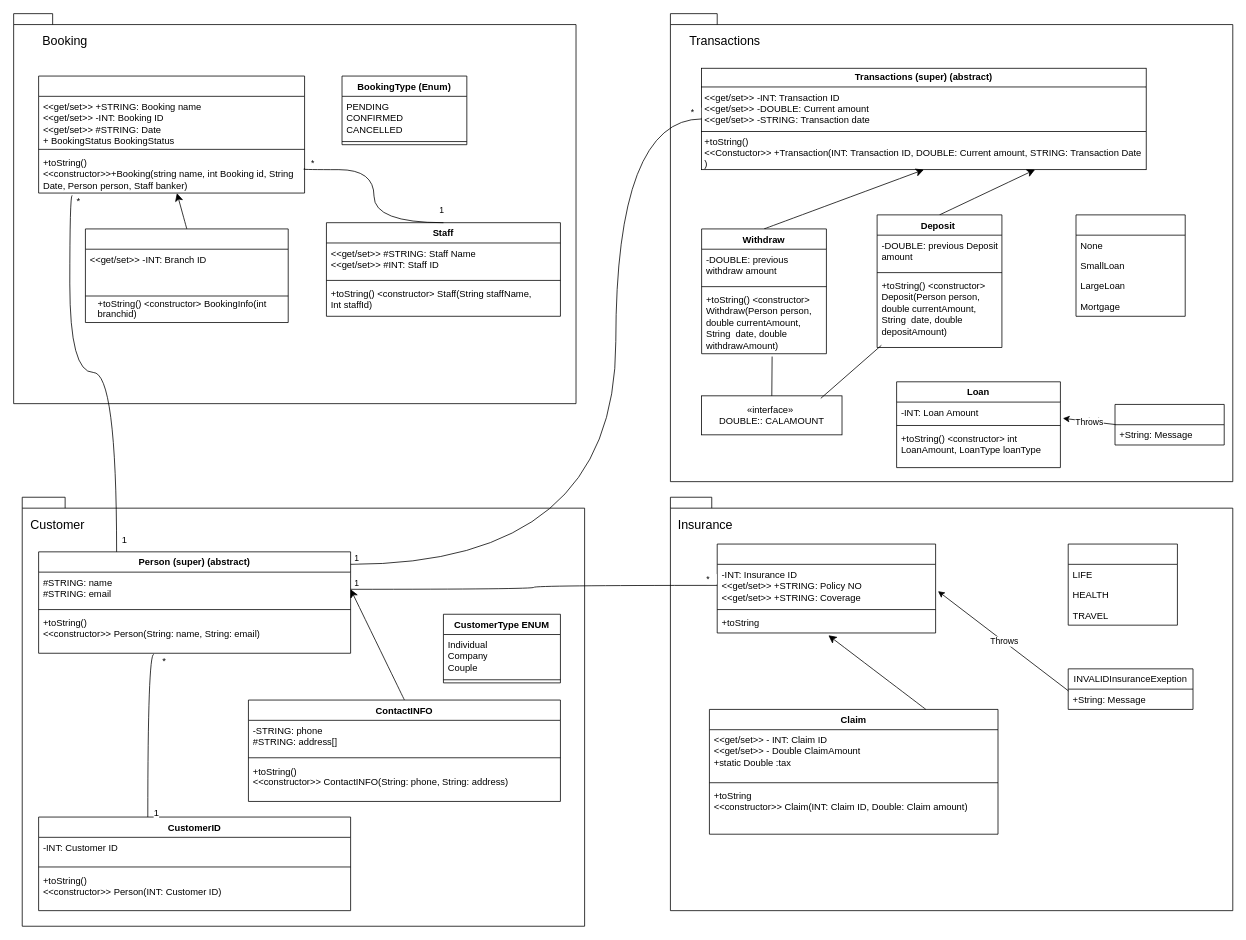
Some shapes in this 1246 by 940 pixel diagram are drawn without their labels. Each missing label, with the box of its shape:
Booking (Super) (Abstract): (38, 75, 305, 193)
BookingInfo Final: (85, 228, 288, 323)
Insurance (super) (abstract): (716, 543, 936, 633)
INVALID transaction exception: (1114, 404, 1224, 445)
LoanType ENUM: (1075, 214, 1185, 316)
PolicyType ENUM: (1067, 543, 1177, 625)
